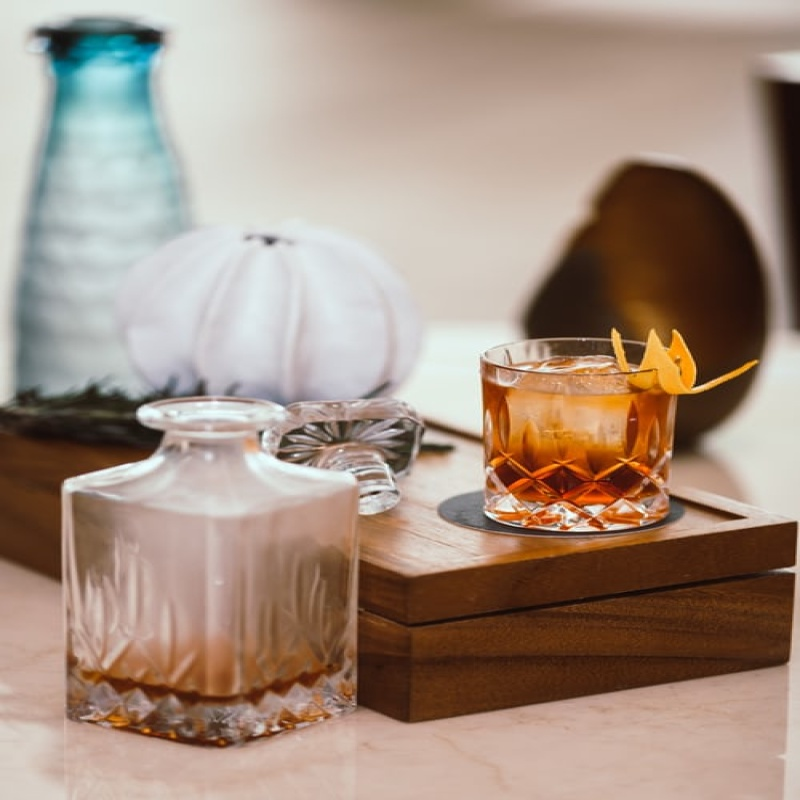whiskey: (486, 335, 695, 539)
